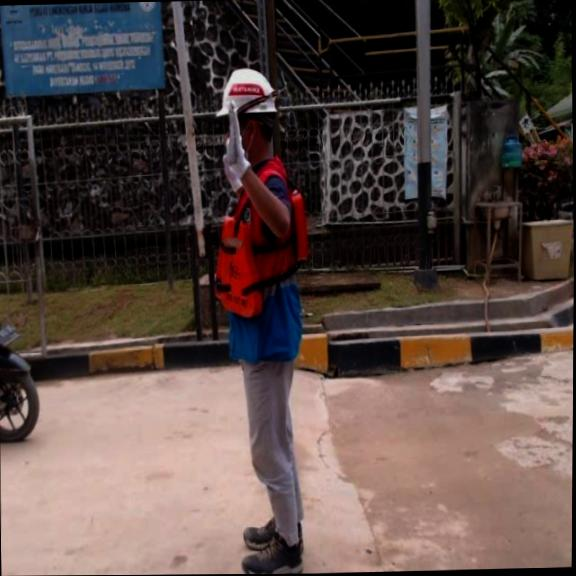safety_vest: (209, 212, 266, 329), (284, 181, 312, 267)
